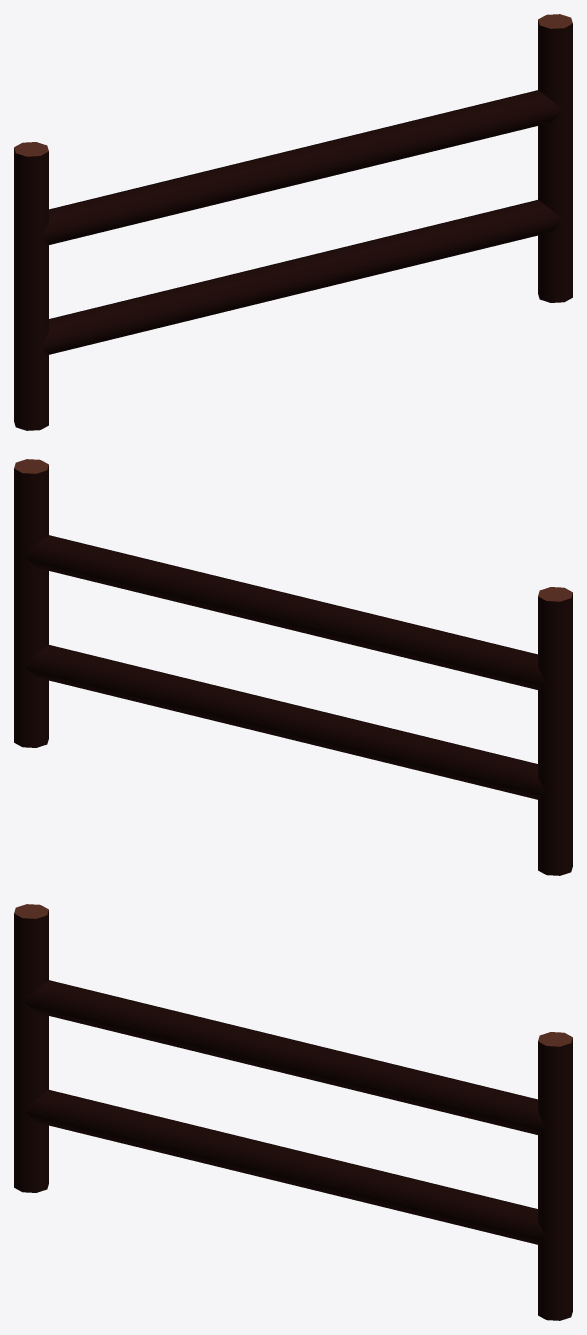
The model's file is fence.FBX.
The picture shows the model from 3 angles, top to bottom: view 1: azimuth 30°, elevation 25°; view 2: azimuth 150°, elevation 25°; view 3: azimuth 330°, elevation 25°; orthographic projection.
Parts seen in each view (by area): view 1: Cylinder004; view 2: Cylinder004; view 3: Cylinder004.
Boxes of the visible parts, x1,y1,x2,y2 form: Cylinder004: (14,14,572,430); Cylinder004: (14,459,572,875); Cylinder004: (14,904,572,1320).
Size of the model in its own units: 106 by 50 by 6.
